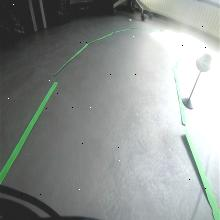left: (195, 52, 213, 74)
